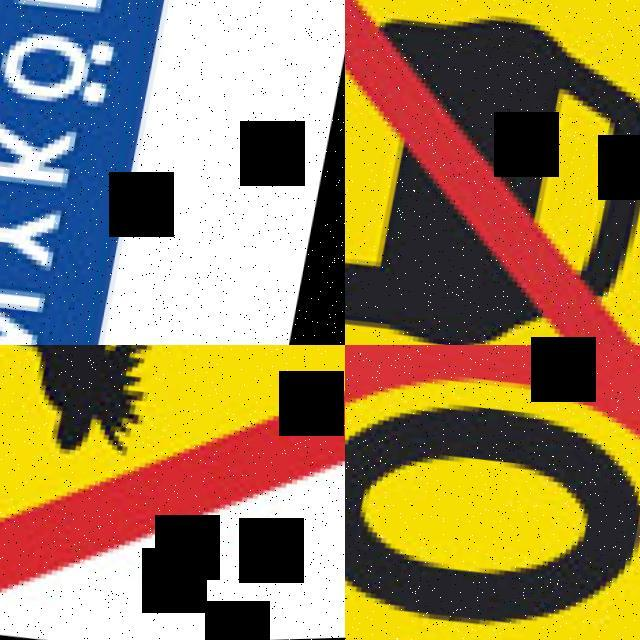45: (345, 0, 640, 345)
88: (0, 0, 225, 345)
speed limit-30: (345, 345, 640, 640)
warning wild animal: (0, 345, 345, 640)
